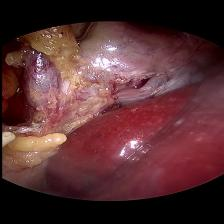Grasper: (64, 22, 95, 46)
